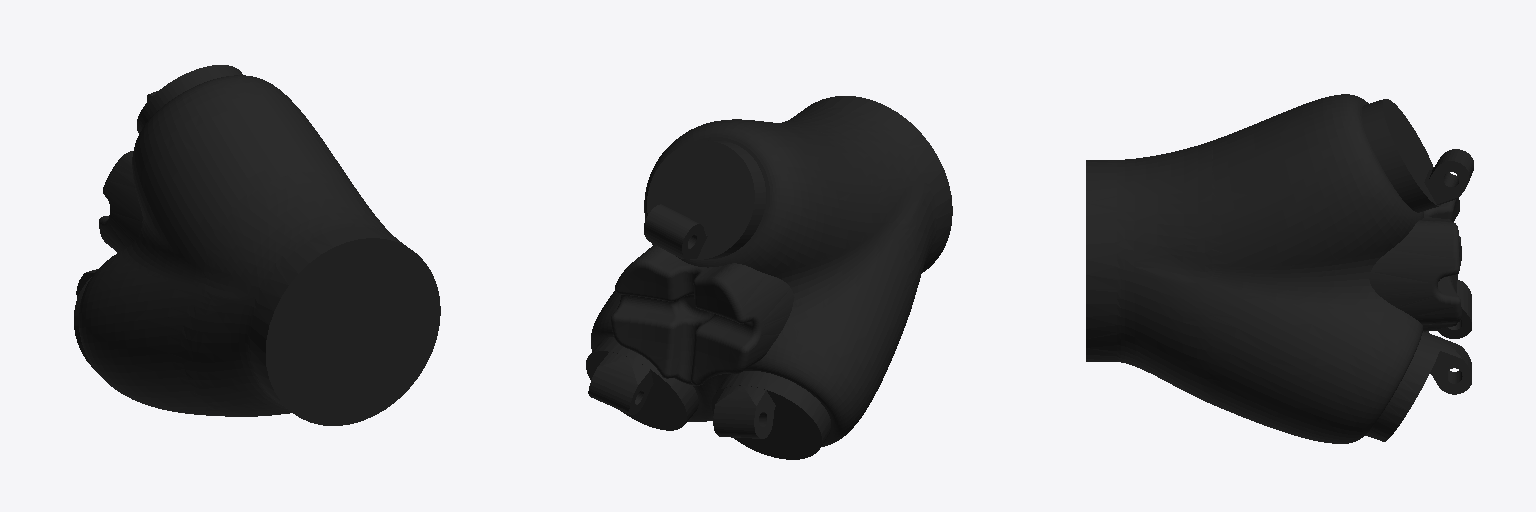
File: hand_3finger.obj
The picture shows the model from 3 angles: view 1: azimuth 30°, elevation 25°; view 2: azimuth 150°, elevation 25°; view 3: azimuth 270°, elevation 25°; orthographic projection.
Visible parts, largest first — view 1: hand_3finger_hand_3finger; view 2: hand_3finger_hand_3finger; view 3: hand_3finger_hand_3finger.
Boxes of the visible parts, <box> form: hand_3finger_hand_3finger: <box>74,65,440,425</box>; hand_3finger_hand_3finger: <box>586,96,952,459</box>; hand_3finger_hand_3finger: <box>1086,94,1473,443</box>.
Size of the model in its own units: 0.0927 by 0.1051 by 0.121.